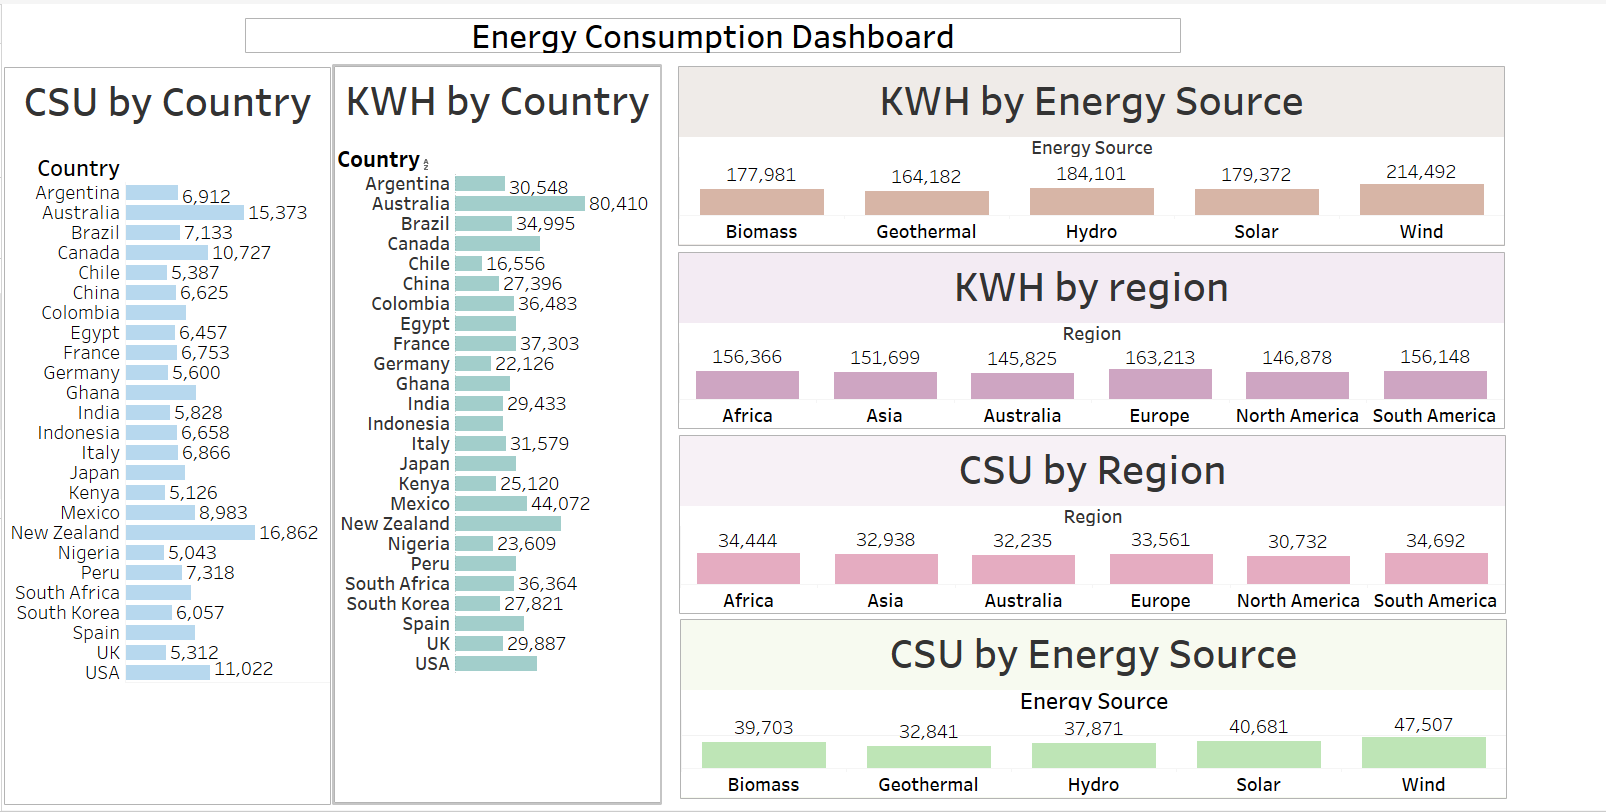

The dashboard page shown, as its layout file describes it:
{"tool":"tableau","page":{"name":"Dashboard 1","canvas":[1000,1000],"units":"permille","ordinal":0},"visuals":[{"type":"text","box":[151.5,17.4,583.4,43.4]},{"type":"worksheet","title":"KWH by Country","mark":"Automatic","rows":["COUNTRY"],"cols":["MONTHLY_USAGE_KWH"],"box":[206.8,76.9,203.7,914.4]},{"type":"worksheet","title":"KWH by Energy Source","mark":"Automatic","rows":["MONTHLY_USAGE_KWH"],"cols":["ENERGY_SOURCE"],"box":[421.5,76.9,515.3,223.3]},{"type":"worksheet","title":"CSU by Country","mark":"Automatic","rows":["COUNTRY"],"cols":["COST_SAVINGS_USD"],"box":[1.2,78.2,203.7,915.6]},{"type":"worksheet","title":"KWH by region","mark":"Automatic","rows":["MONTHLY_USAGE_KWH"],"cols":["REGION"],"box":[421.5,307.7,515.3,219.6]},{"type":"worksheet","title":"CSU by Region","mark":"Automatic","rows":["COST_SAVINGS_USD"],"cols":["REGION"],"box":[422.1,534.7,515.3,222.1]},{"type":"worksheet","title":"CSU by Energy Source","mark":"Automatic","rows":["COST_SAVINGS_USD"],"cols":["ENERGY_SOURCE"],"box":[422.7,763,515.3,223.3]}]}

Visuals, with their boxes on the dashboard's canvas, which has no fixed pixel size, in thousandths of its width and height (x1, y1, x2, y2). These are canvas units, not pixel positions in the 1606x812 screenshot, which may show the page scaled, cropped or inside an application window:
text: detection(152, 17, 735, 61)
"KWH by Country" worksheet: detection(207, 77, 410, 991)
"KWH by Energy Source" worksheet: detection(422, 77, 937, 300)
"CSU by Country" worksheet: detection(1, 78, 205, 994)
"KWH by region" worksheet: detection(422, 308, 937, 527)
"CSU by Region" worksheet: detection(422, 535, 937, 757)
"CSU by Energy Source" worksheet: detection(423, 763, 938, 986)
